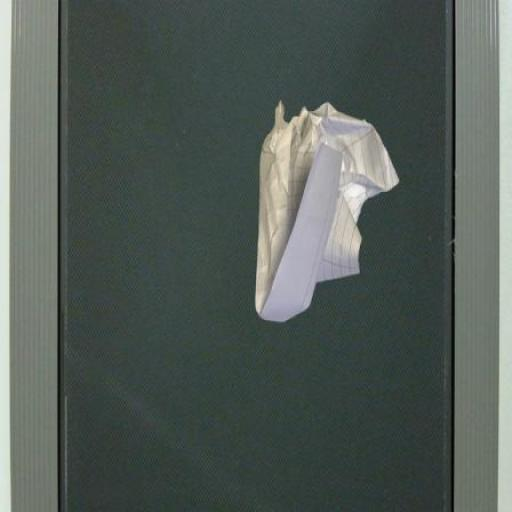paper: (232, 51, 392, 392)
